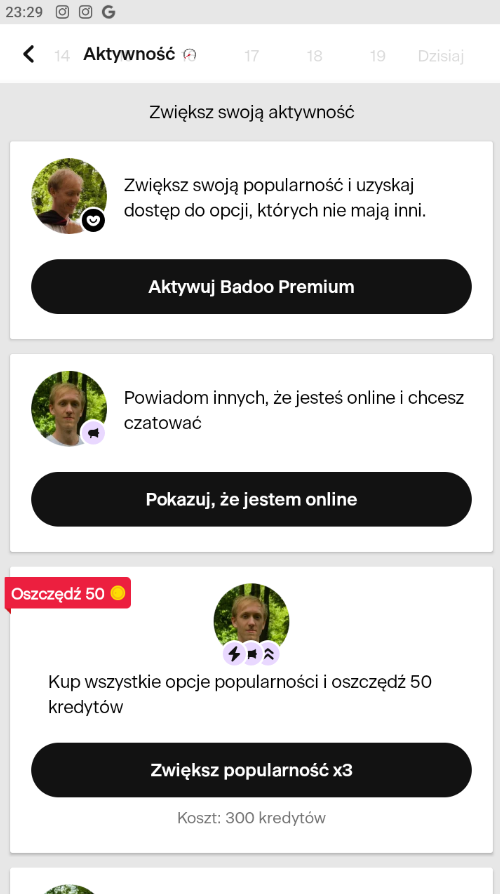kupno_button: (34, 254, 473, 318), (35, 738, 470, 801), (34, 469, 470, 528)
